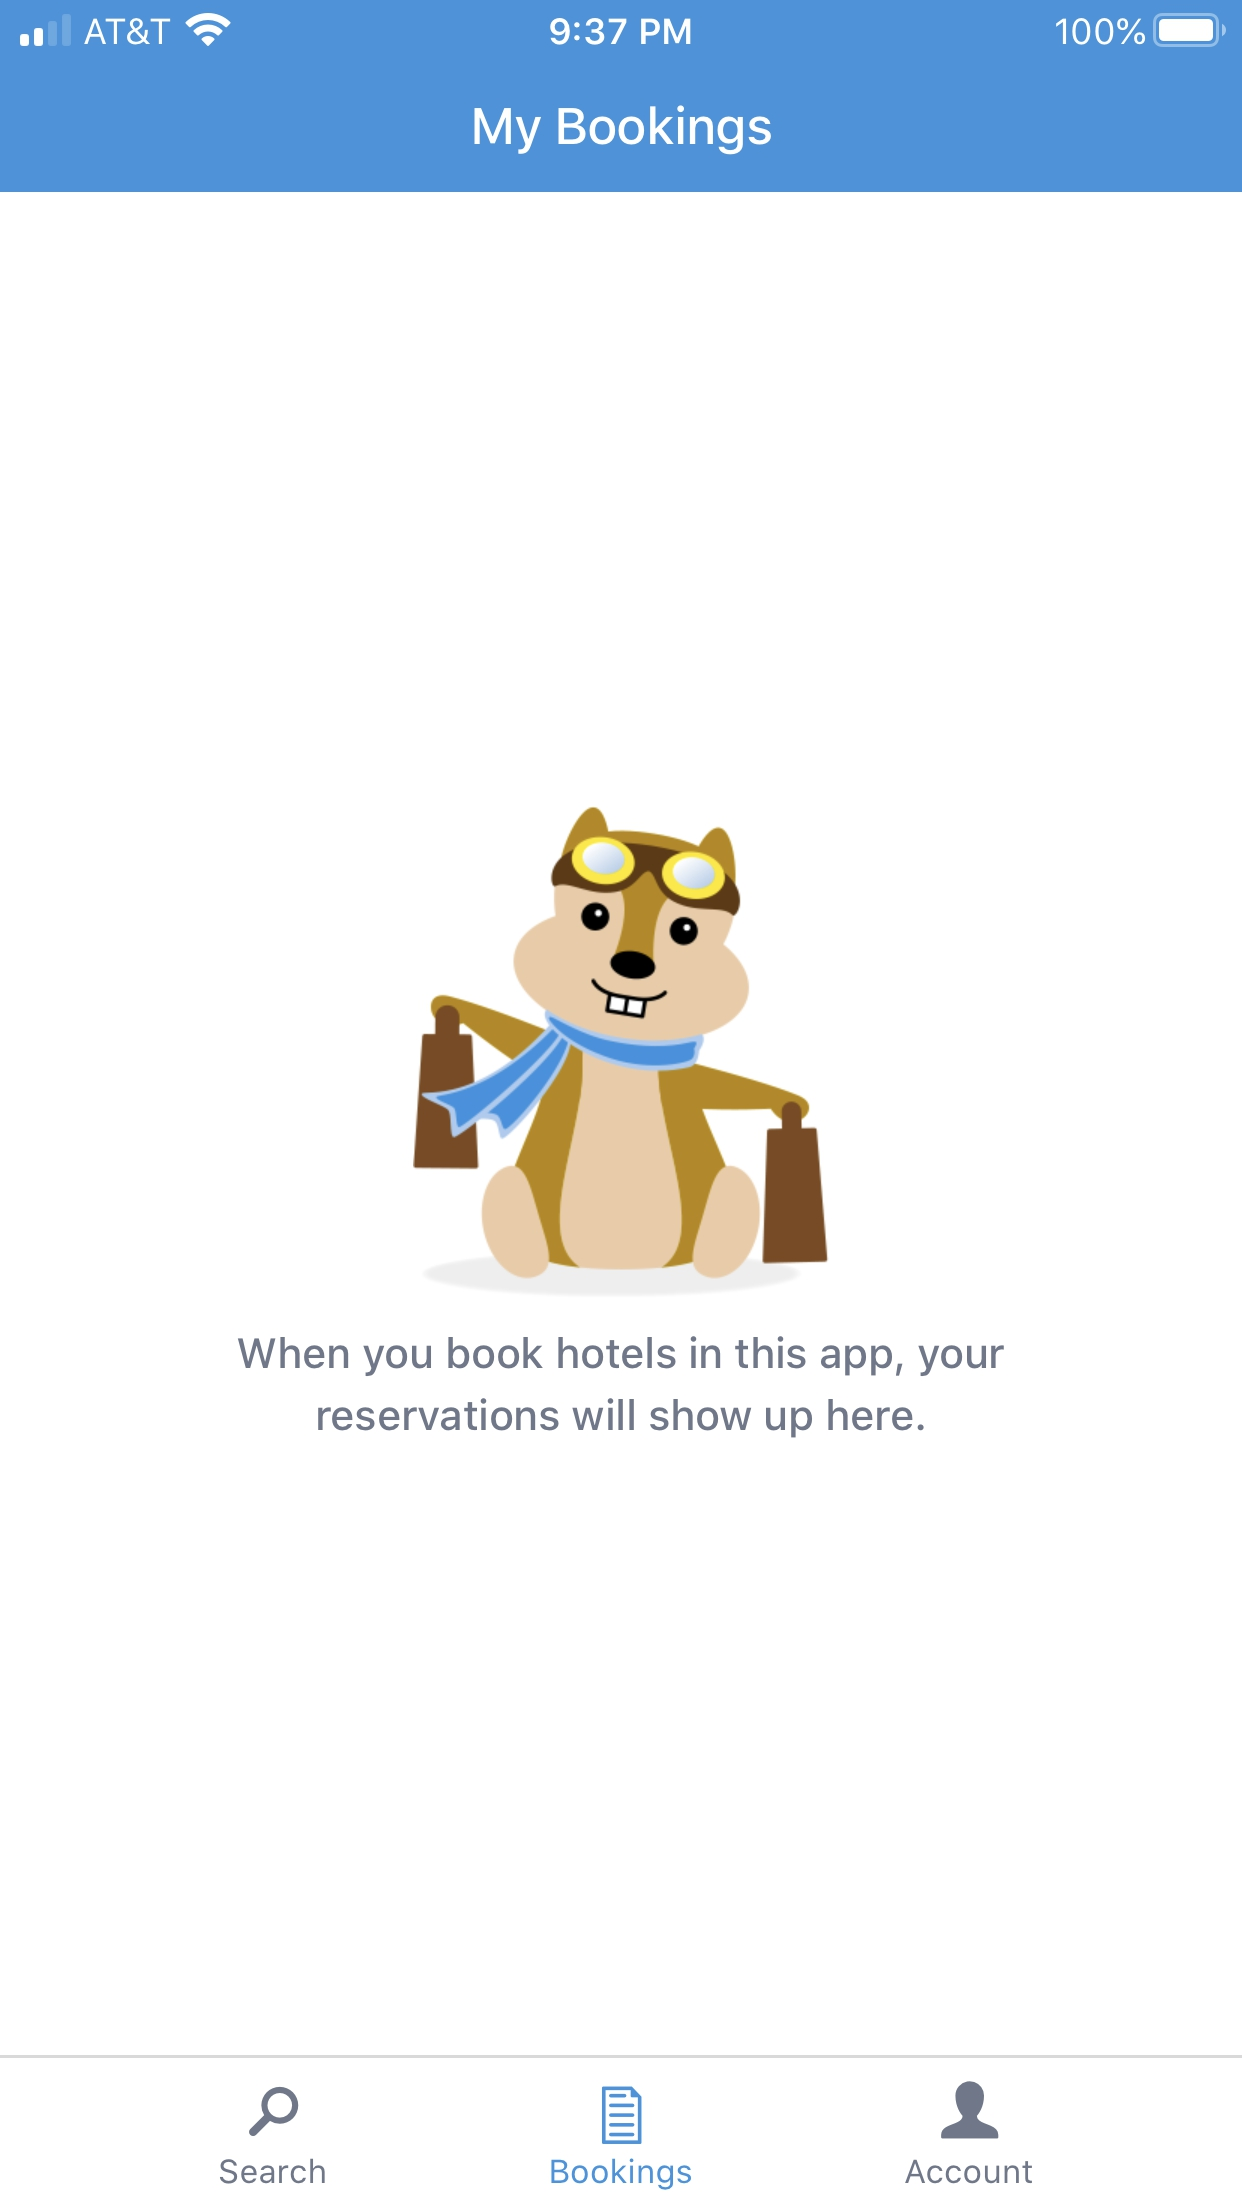Icon: (942, 2081, 999, 2138), (249, 2087, 299, 2137), (602, 2085, 641, 2144)
Image: (412, 807, 830, 1297)
Text: (238, 1336, 1004, 1438), (475, 106, 770, 156), (550, 2158, 692, 2190), (905, 2158, 1033, 2184), (220, 2156, 325, 2184)
UpperTaskBar: (2, 2, 1242, 47)
